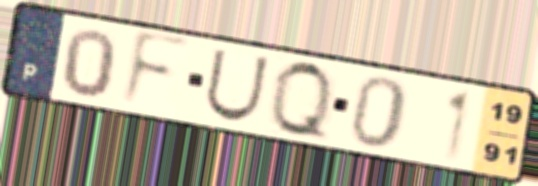0: (347, 74, 411, 151), (57, 25, 121, 100)
1: (442, 88, 480, 166)
F: (115, 27, 193, 111)
Q: (268, 57, 335, 147)
U: (201, 46, 273, 124)
